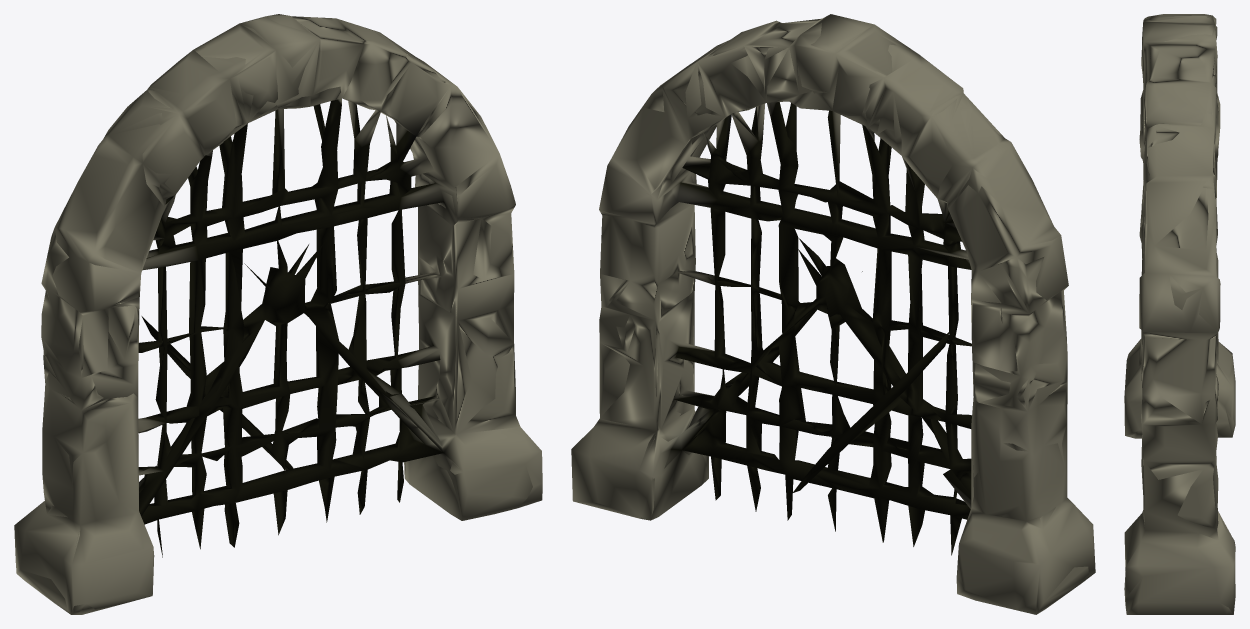
File: gen3d-portcullis-lod0.glb
3 views of the same model, side by side, from view 1: azimuth 30°, elevation 25°; view 2: azimuth 150°, elevation 25°; view 3: azimuth 270°, elevation 25° (orthographic). The views are drawn at different scales.
Parts seen in each view (by area): view 1: part_0; view 2: part_0; view 3: part_0.
Boxes of the visible parts, x1,y1,x2,y2 form: part_0: (14, 14, 542, 614); part_0: (571, 14, 1095, 614); part_0: (1124, 14, 1235, 614).
Size of the model in its own units: 0.9704 by 1 by 0.2103.
